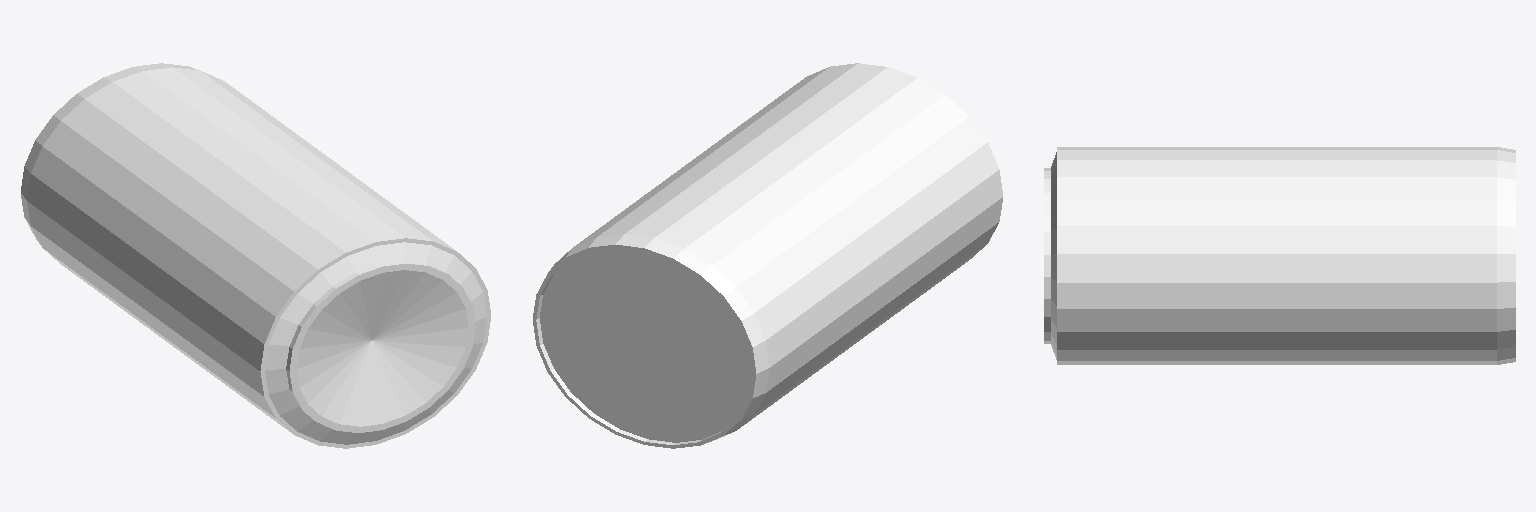
robot.urdf — textured:
<?xml version="1.0" ?>
<robot name="textured">
  <link name="base_link">
    <contact>
      <lateral_friction value="1.0"/>
      <inertia_scaling value="3.0"/>
    </contact>
    <inertial>
      <origin rpy="0 0 0" xyz="-0.01 0 0.02"/>
       <mass value=".1"/>
       <inertia ixx="1" ixy="0" ixz="0" iyy="1" iyz="0" izz="1"/>
    </inertial>
    <visual>
      <origin rpy="0 0 0" xyz="0 0 0"/>
      <geometry>
        <mesh filename="model.obj" scale=".56 .56 .47"/>
      </geometry>
      <material name="white">
        <color rgba="1 1 1 1"/>
      </material>
    </visual>
    <collision>
      <origin rpy="0 0 0" xyz="0 0 0"/>
      <geometry>
        <mesh filename="collision_model/model_vhacd_0_of_12.obj" scale=".56 .56 .47"/>
      </geometry>
    </collision>
    <collision>
      <origin rpy="0 0 0" xyz="0 0 0"/>
      <geometry>
        <mesh filename="collision_model/model_vhacd_1_of_12.obj" scale=".56 .56 .47"/>
      </geometry>
    </collision>
    <collision>
      <origin rpy="0 0 0" xyz="0 0 0"/>
      <geometry>
        <mesh filename="collision_model/model_vhacd_2_of_12.obj" scale=".56 .56 .47"/>
      </geometry>
    </collision>
    <collision>
      <origin rpy="0 0 0" xyz="0 0 0"/>
      <geometry>
        <mesh filename="collision_model/model_vhacd_3_of_12.obj" scale=".56 .56 .47"/>
      </geometry>
    </collision>
    <collision>
      <origin rpy="0 0 0" xyz="0 0 0"/>
      <geometry>
        <mesh filename="collision_model/model_vhacd_4_of_12.obj" scale=".56 .56 .47"/>
      </geometry>
    </collision>
    <collision>
      <origin rpy="0 0 0" xyz="0 0 0"/>
      <geometry>
        <mesh filename="collision_model/model_vhacd_5_of_12.obj" scale=".56 .56 .47"/>
      </geometry>
    </collision>
    <collision>
      <origin rpy="0 0 0" xyz="0 0 0"/>
      <geometry>
        <mesh filename="collision_model/model_vhacd_6_of_12.obj" scale=".56 .56 .47"/>
      </geometry>
    </collision>
    <collision>
      <origin rpy="0 0 0" xyz="0 0 0"/>
      <geometry>
        <mesh filename="collision_model/model_vhacd_7_of_12.obj" scale=".56 .56 .47"/>
      </geometry>
    </collision>
    <collision>
      <origin rpy="0 0 0" xyz="0 0 0"/>
      <geometry>
        <mesh filename="collision_model/model_vhacd_8_of_12.obj" scale=".56 .56 .47"/>
      </geometry>
    </collision>
    <collision>
      <origin rpy="0 0 0" xyz="0 0 0"/>
      <geometry>
        <mesh filename="collision_model/model_vhacd_9_of_12.obj" scale=".56 .56 .47"/>
      </geometry>
    </collision>
    <collision>
      <origin rpy="0 0 0" xyz="0 0 0"/>
      <geometry>
        <mesh filename="collision_model/model_vhacd_10_of_12.obj" scale=".56 .56 .47"/>
      </geometry>
    </collision>
    <collision>
      <origin rpy="0 0 0" xyz="0 0 0"/>
      <geometry>
        <mesh filename="collision_model/model_vhacd_11_of_12.obj" scale=".56 .56 .47"/>
      </geometry>
    </collision>
  </link>
</robot>

--- Facts derived from the render (not from the file) ---
3 views of the same robot in one strip: view 1: azimuth 30°, elevation 25°; view 2: azimuth 150°, elevation 25°; view 3: azimuth 270°, elevation 25° (orthographic).
Robot: textured — 1 links, 0 joints (none); root link base_link; default pose: every joint at zero.
Visible links, largest first — view 1: base_link; view 2: base_link; view 3: base_link.
Boxes of the visible links, box(x1,y1,x2,y2) form: base_link: box(21, 63, 490, 448); base_link: box(533, 63, 1002, 448); base_link: box(1044, 147, 1515, 364).
Bounding box of the posed robot: 0.2384 × 0.4471 × 0.2001 m (x, y, z).
Meshes: 1 distinct files referenced, 1 mesh visuals loaded (1 OBJ).